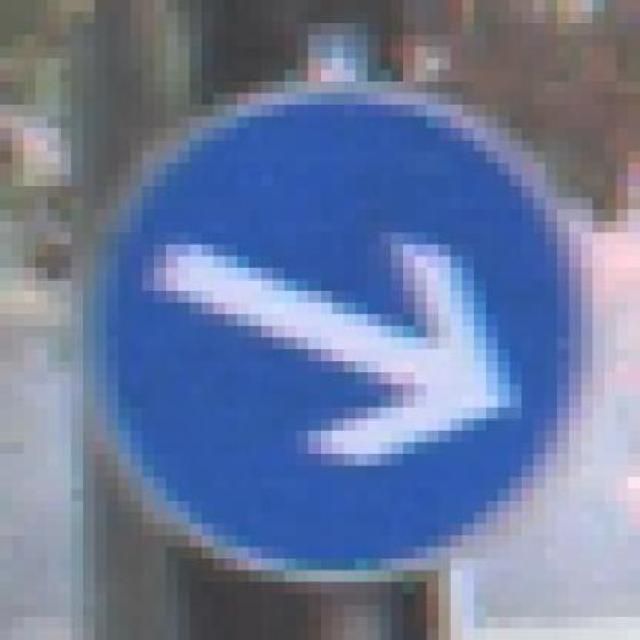Keep-Right: (70, 81, 604, 582)
